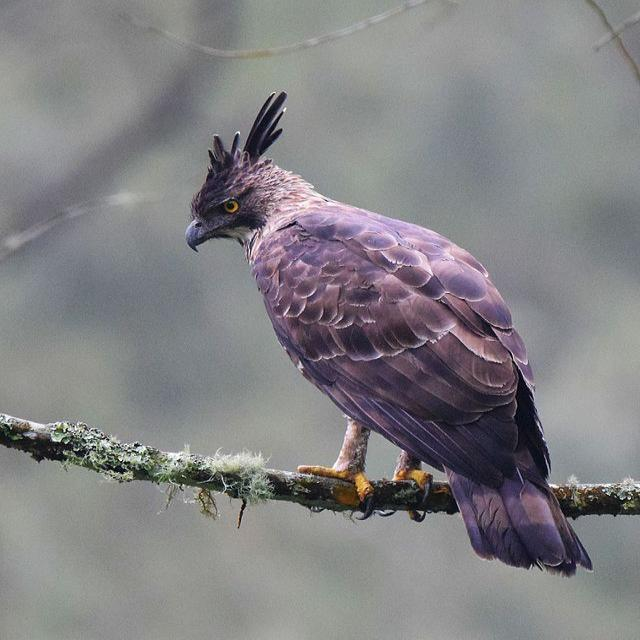Elang Jawa: (156, 76, 611, 588)
